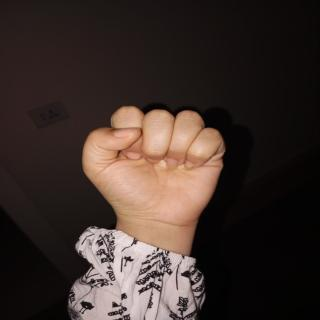SAD: (72, 99, 240, 242)
